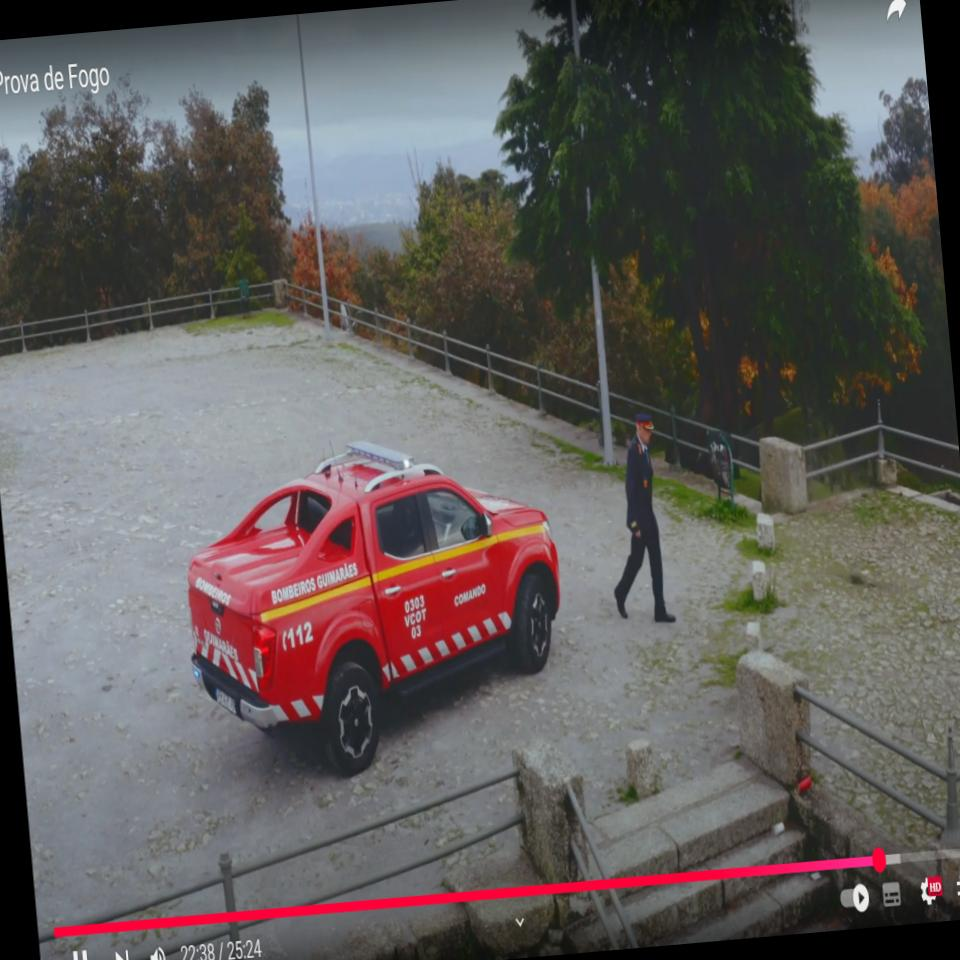viatura: (173, 421, 575, 784)
